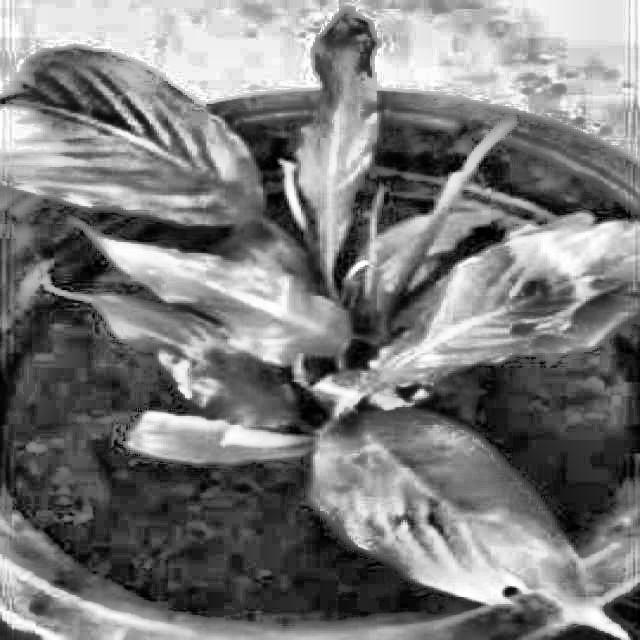plants: (19, 7, 638, 638), (315, 405, 638, 638)
